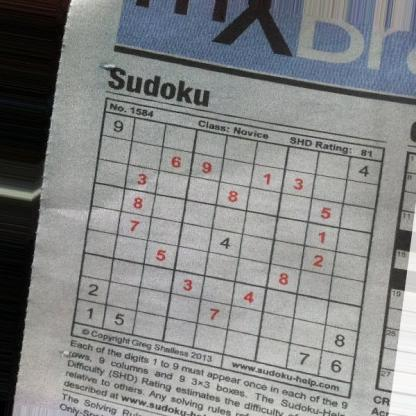sudoku: (72, 95, 384, 385)
